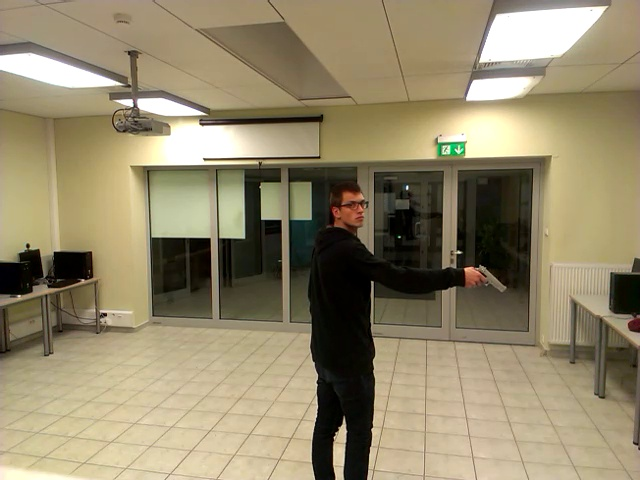gun: (466, 248, 527, 324)
